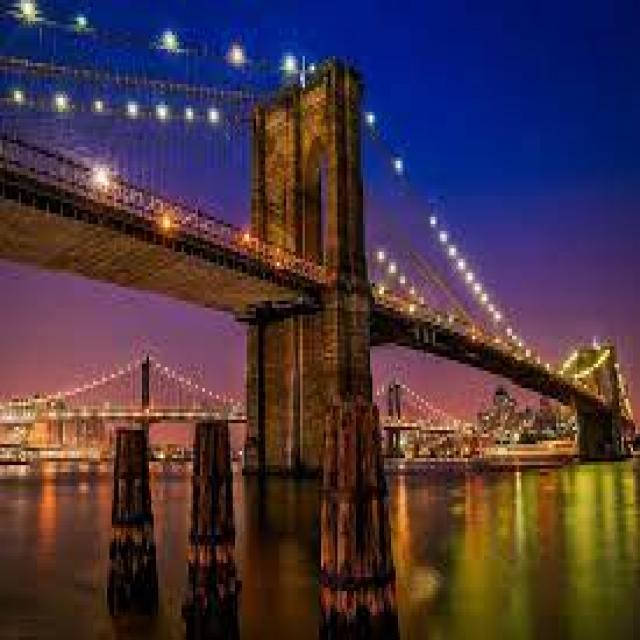Bridges: (3, 8, 640, 482)
